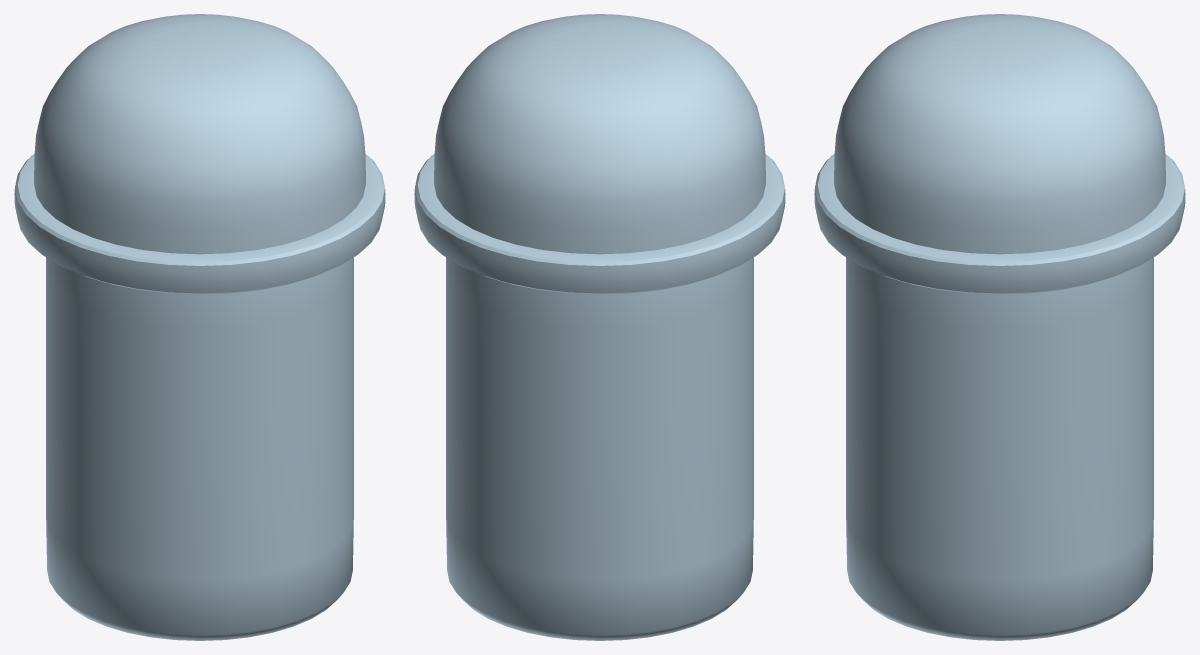
Rendered from JarNormal.fbx.
3 views of the same model, side by side, from view 1: azimuth 30°, elevation 25°; view 2: azimuth 150°, elevation 25°; view 3: azimuth 270°, elevation 25° (orthographic).
Visible parts, largest first — view 1: Circle, Circle.001; view 2: Circle, Circle.001; view 3: Circle, Circle.001.
Part boxes in pixels (x1,y1,x2,y2): Circle: [46, 257, 353, 640]; Circle.001: [14, 14, 385, 294]; Circle: [446, 257, 753, 640]; Circle.001: [414, 14, 785, 294]; Circle: [846, 257, 1153, 640]; Circle.001: [814, 14, 1185, 294].
Size of the model in its own units: 57.34 by 91.5 by 57.35.
